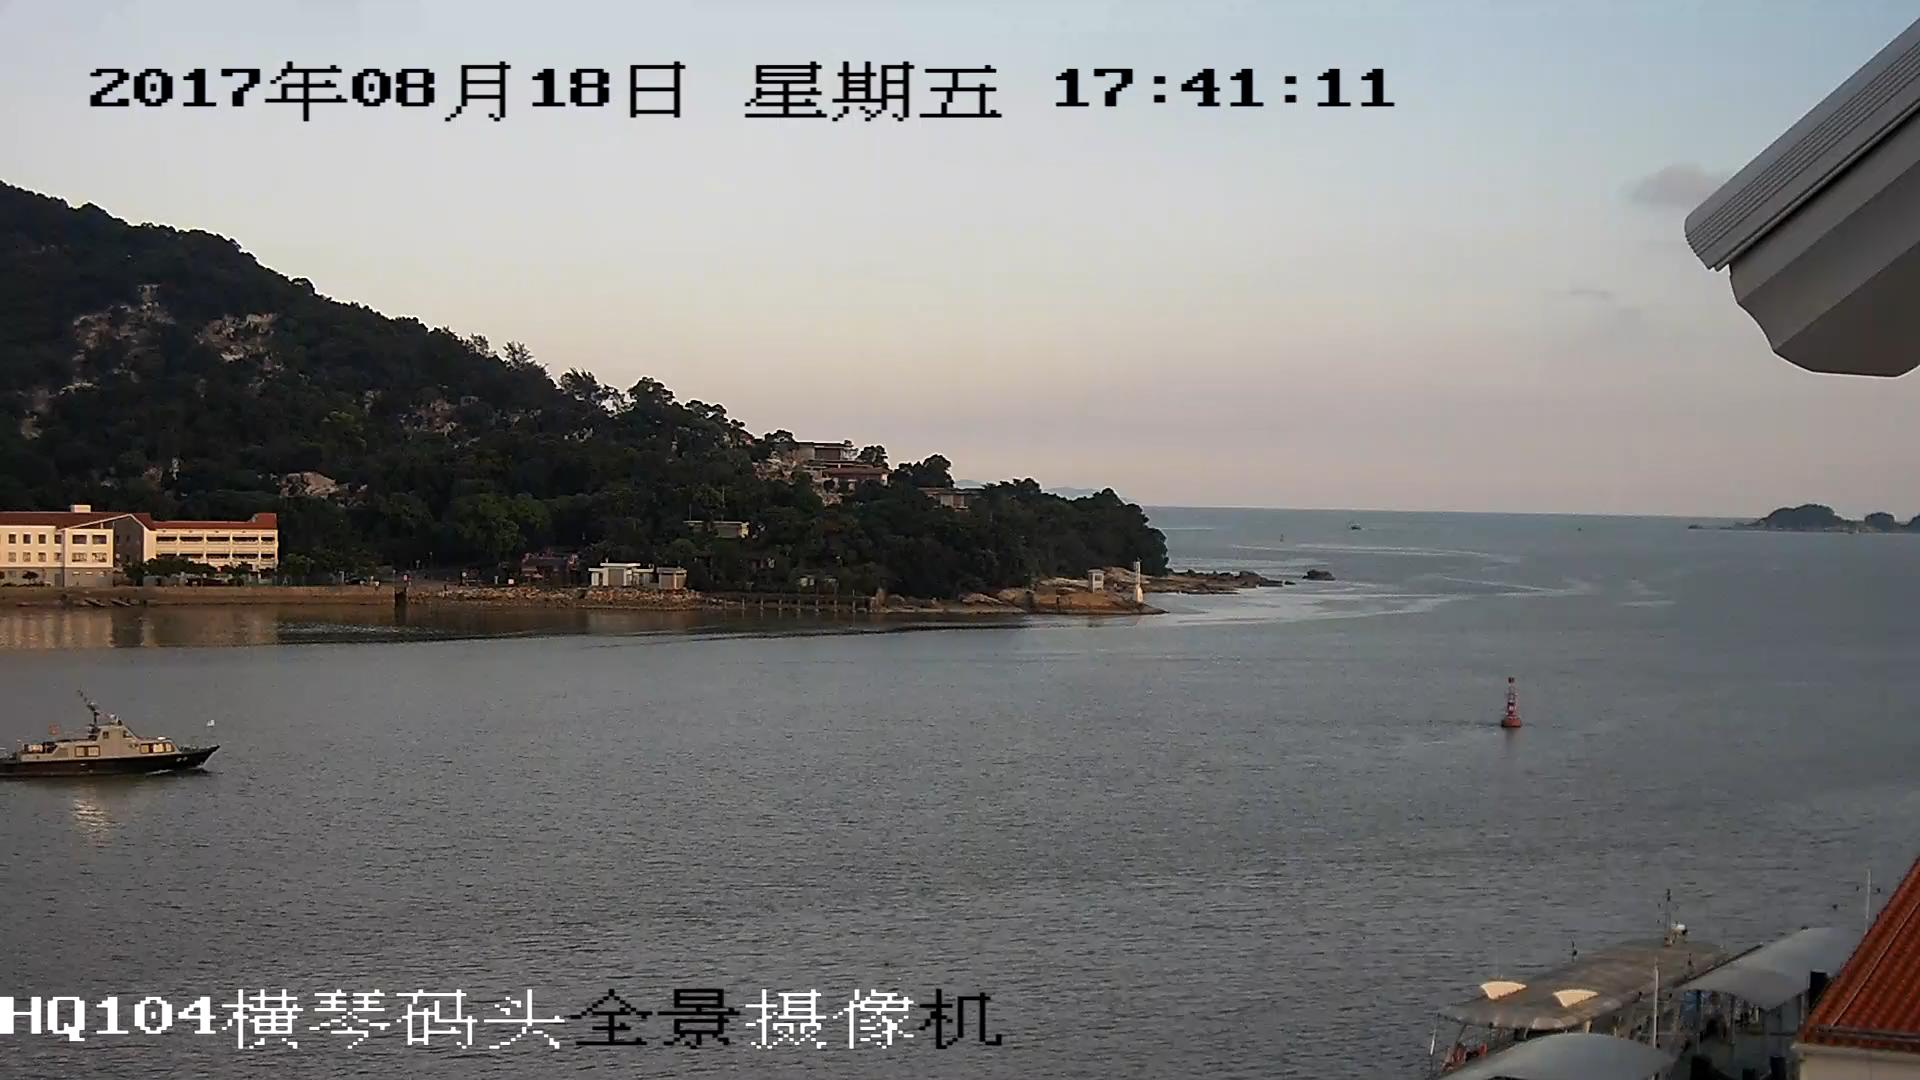fishing boat: (1, 703, 222, 770)
